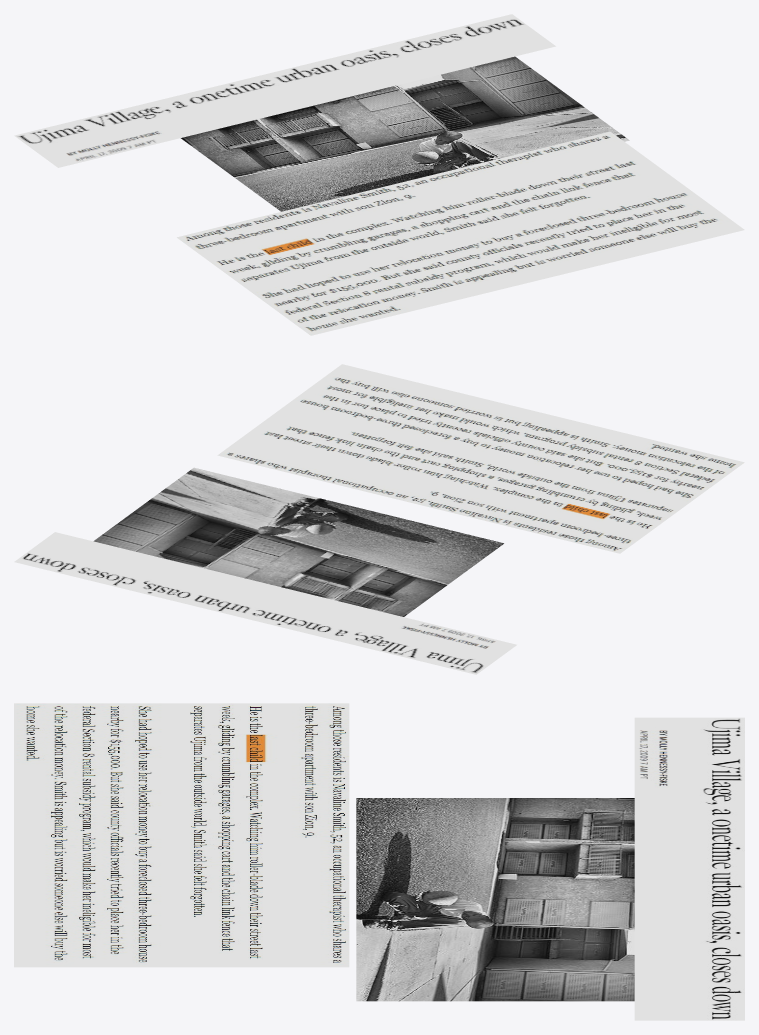
File: asset.glb
3 renders of one model, top to bottom at view 1: azimuth 30°, elevation 25°; view 2: azimuth 150°, elevation 25°; view 3: azimuth 270°, elevation 25°, orthographic. The views are drawn at different scales.
Parts seen in each view (by area): view 1: Ujima-article, Last Child in Ujima Village, ujima-headline; view 2: Ujima-article, Last Child in Ujima Village, ujima-headline; view 3: Ujima-article, Last Child in Ujima Village, ujima-headline.
Boxes of the visible parts, x1,y1,x2,y2 form: Ujima-article: (177, 131, 744, 335); Last Child in Ujima Village: (181, 56, 629, 211); ujima-headline: (14, 14, 555, 167); Ujima-article: (217, 364, 744, 553); Last Child in Ujima Village: (93, 467, 503, 616); ujima-headline: (14, 532, 516, 674); Ujima-article: (14, 703, 349, 967); Last Child in Ujima Village: (356, 798, 634, 1001); ujima-headline: (634, 717, 744, 1020).
Size of the model in its own units: 6.5 by 0.2054 by 6.63.
3 materials, 3 textured.
